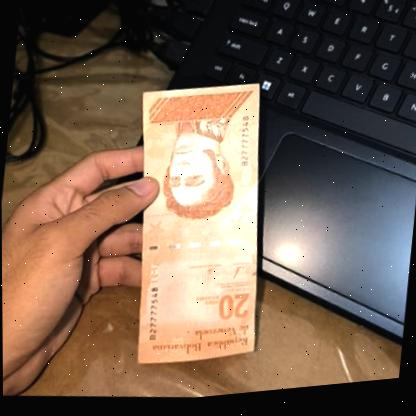twenty-front-vef: (114, 74, 282, 382)
